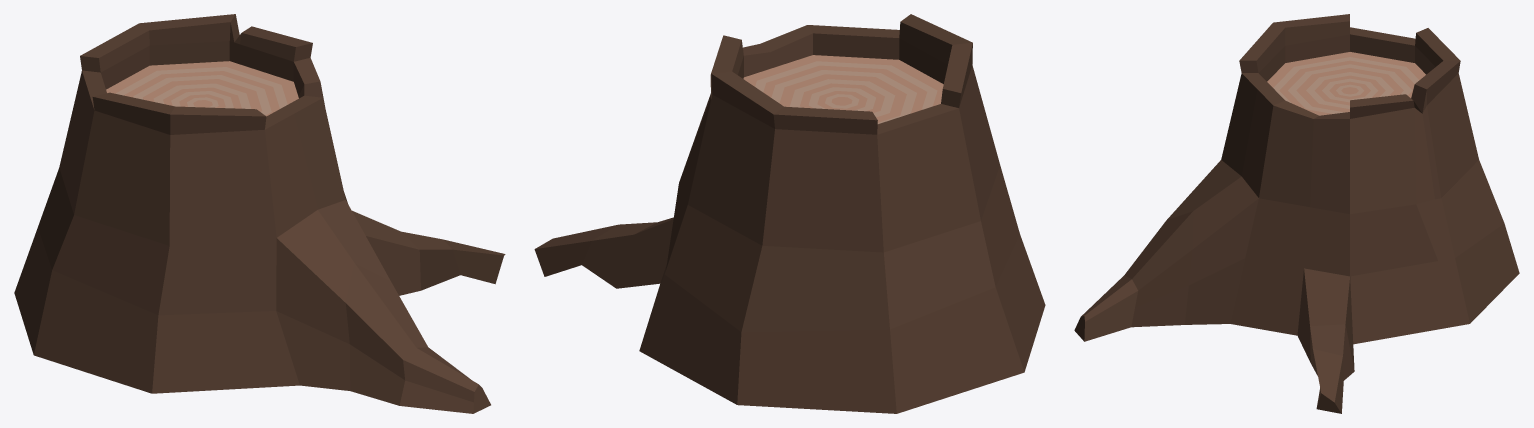
File: cutting-tree.fbx
3 renders of one model, left to right at view 1: azimuth 30°, elevation 25°; view 2: azimuth 150°, elevation 25°; view 3: azimuth 270°, elevation 25°, orthographic. The views are drawn at different scales.
Visible parts, largest first — view 1: Circle; view 2: Circle; view 3: Circle.
Part boxes in pixels (x1,y1,x2,y2): Circle: (14, 14, 505, 413); Circle: (534, 14, 1045, 413); Circle: (1074, 14, 1519, 413).
Bounding box in the file's own units: 291 × 165 × 278.
